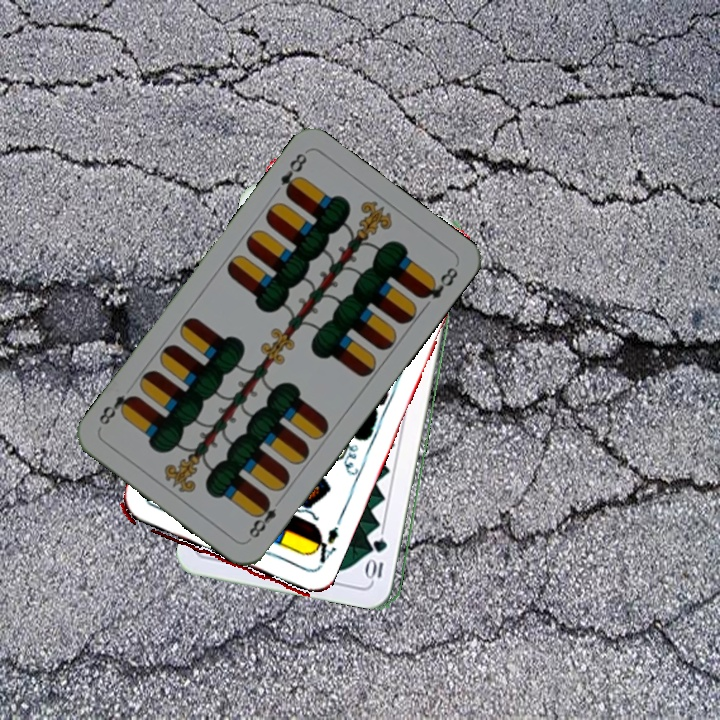E8: (244, 494, 280, 543), (276, 149, 310, 200)
EA: (304, 518, 343, 574)
G10: (367, 533, 390, 583)
